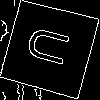U: (25, 23, 81, 71)
